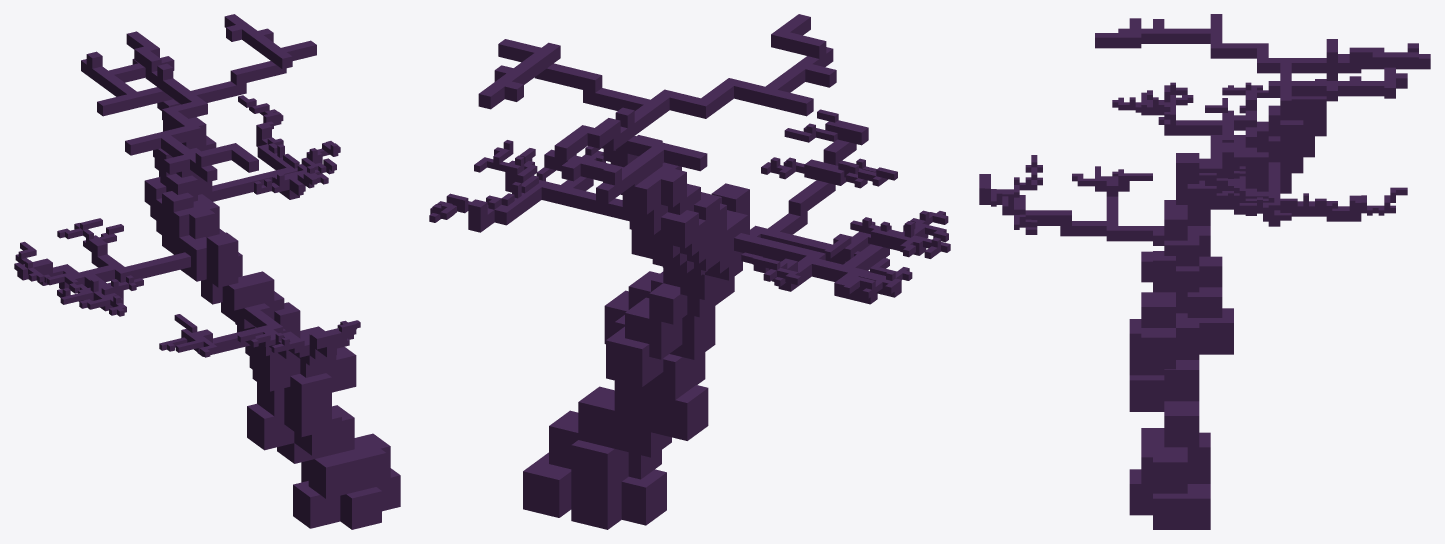
Rendered from IceBerries-9.obj.
3 views of the same model, side by side, from view 1: azimuth 30°, elevation 25°; view 2: azimuth 150°, elevation 25°; view 3: azimuth 270°, elevation 25° (orthographic). The views are drawn at different scales.
Size of the model in its own units: 6.6 by 8 by 7.8.
1 material, 1 textured.
